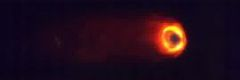keyhole: (168, 32, 182, 48)
